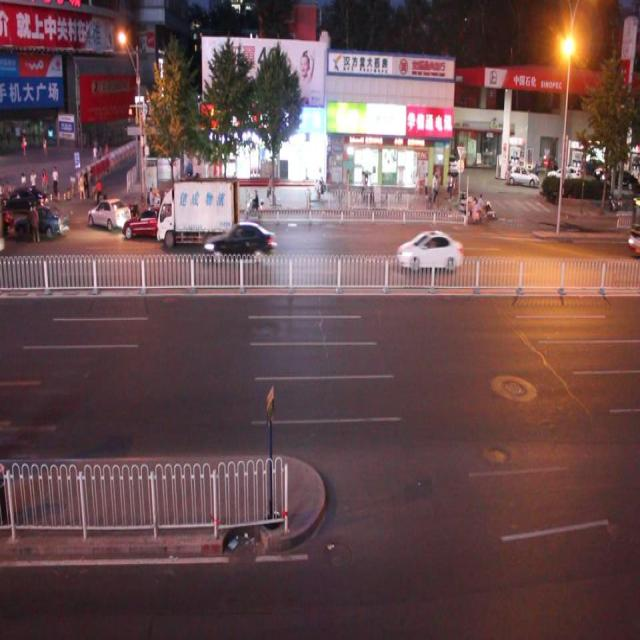bus: (153, 184, 240, 259)
car: (205, 222, 276, 266), (397, 228, 463, 272), (120, 210, 182, 251), (13, 204, 69, 248), (86, 200, 129, 242), (9, 183, 47, 218)
